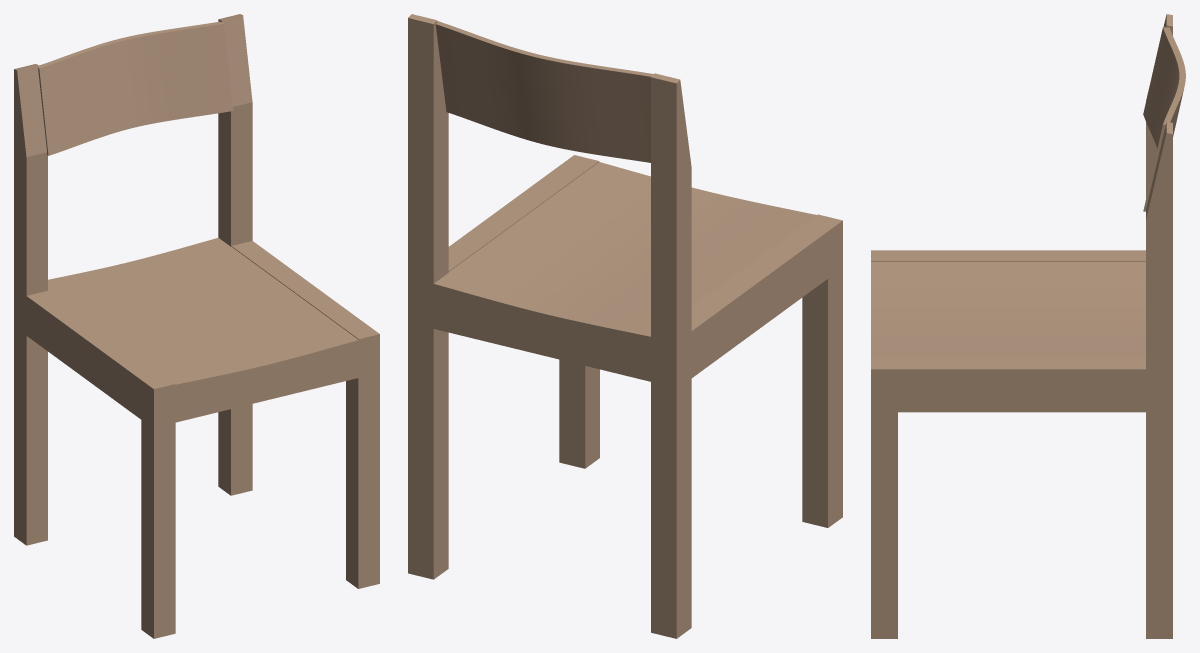
The picture shows the model from 3 angles, left to right: view 1: azimuth 30°, elevation 25°; view 2: azimuth 150°, elevation 25°; view 3: azimuth 270°, elevation 25°; orthographic projection. The views are drawn at different scales.
Parts seen in each view (by area): view 1: chair; view 2: chair; view 3: chair.
Boxes of the visible parts, left/top/right/bottom form: chair: left=14, top=14, right=379, bottom=638; chair: left=408, top=14, right=842, bottom=638; chair: left=871, top=14, right=1185, bottom=638.
Bounding box in the file's own units: 0.4282 × 0.848 × 0.4785.
